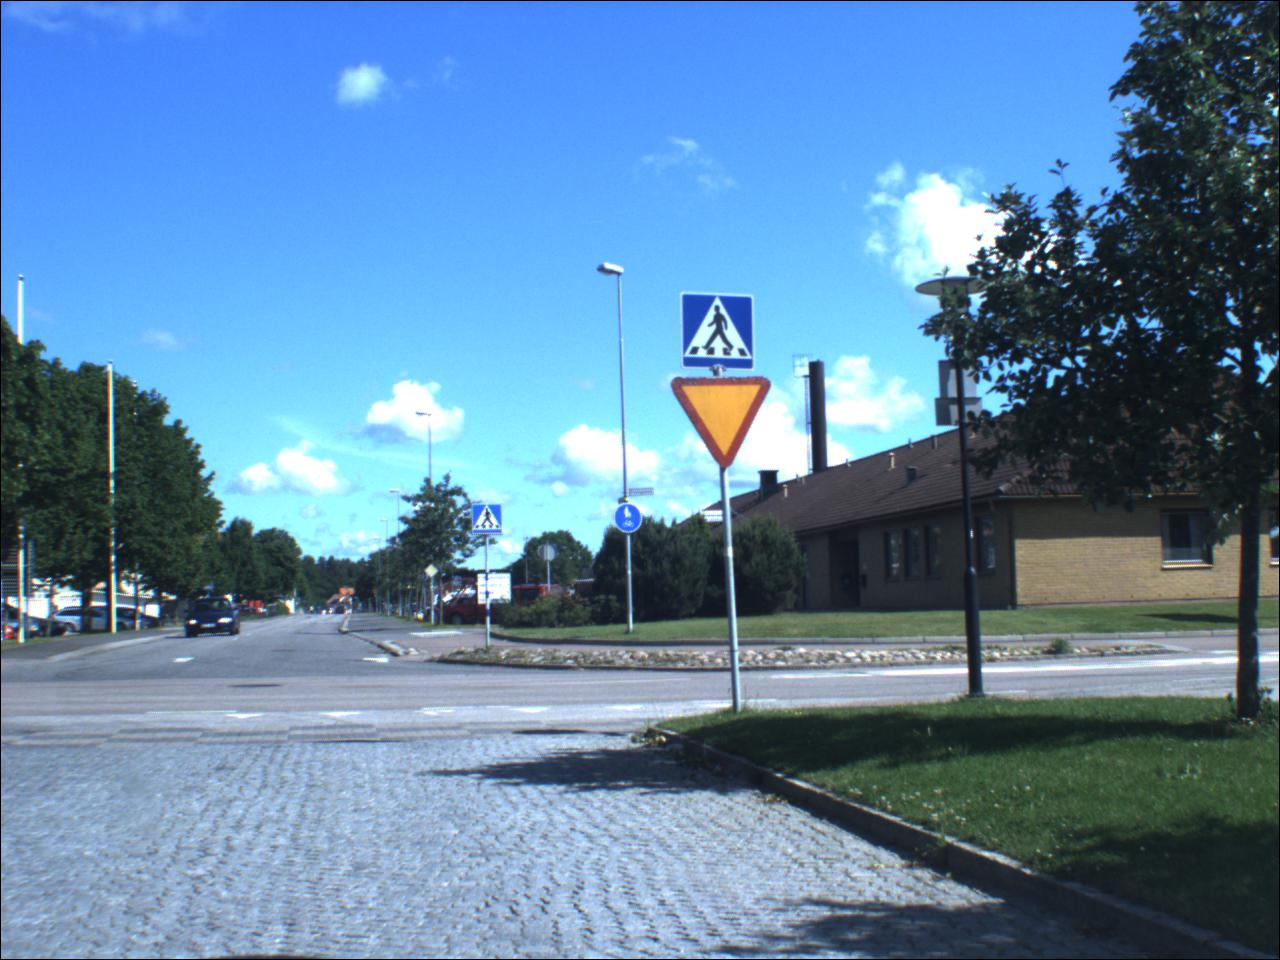GIVE_WAY: (672, 378, 774, 474)
PEDESTRIAN_CROSSING: (684, 296, 756, 374), (475, 506, 505, 538)
PRIORITY_ROAD: (426, 567, 441, 580)
